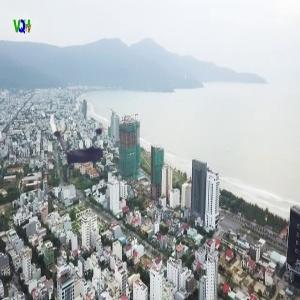drone: (38, 99, 136, 197)
